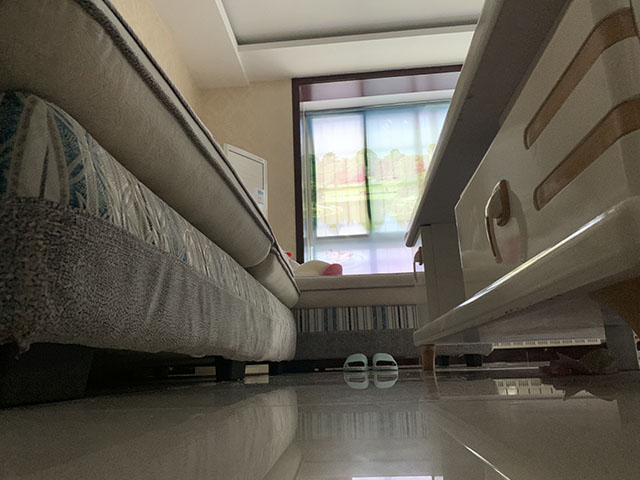slippers: (341, 352, 400, 373)
sofa: (1, 1, 420, 409)
table: (402, 1, 640, 372)
